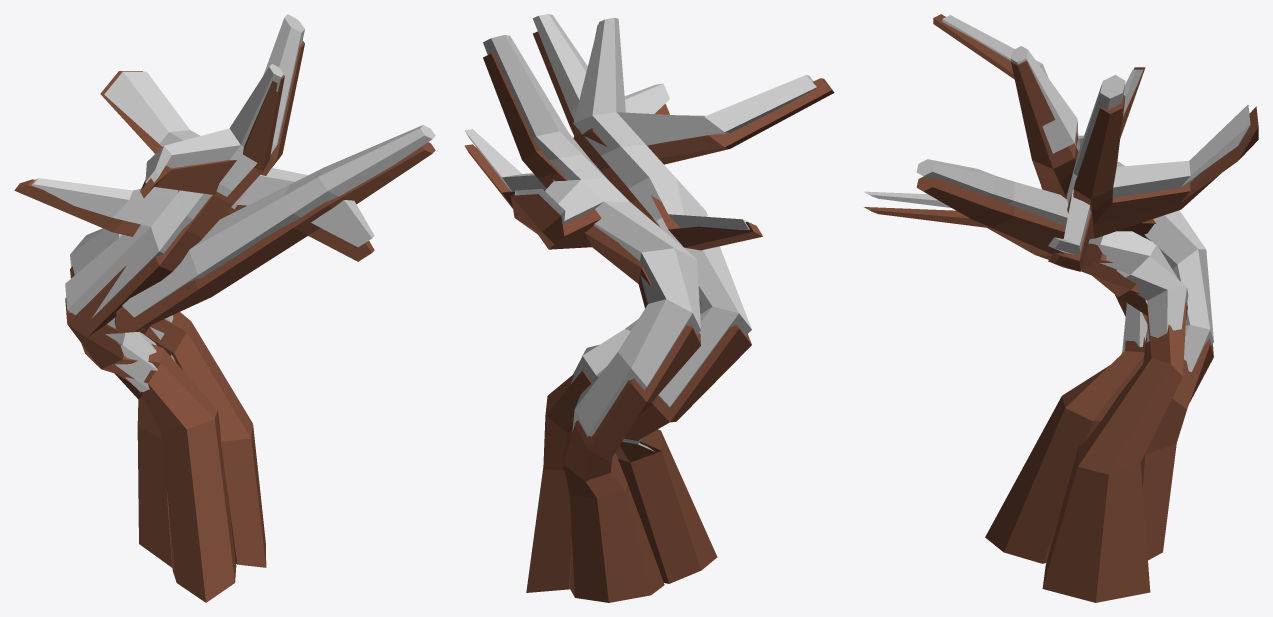
The model's file is Tree_06_winter_vc.fbx.
3 renders of one model, left to right at view 1: azimuth 30°, elevation 25°; view 2: azimuth 150°, elevation 25°; view 3: azimuth 270°, elevation 25°, orthographic. The views are drawn at different scales.
Visible parts, largest first — view 1: Tree_06_winter_vc; view 2: Tree_06_winter_vc; view 3: Tree_06_winter_vc.
Part boxes in pixels (x1,y1,x2,y2): Tree_06_winter_vc: (14,14,435,602); Tree_06_winter_vc: (464,14,834,602); Tree_06_winter_vc: (864,14,1258,602).
Bounding box in the file's own units: 7.52 × 11.45 × 7.56.
